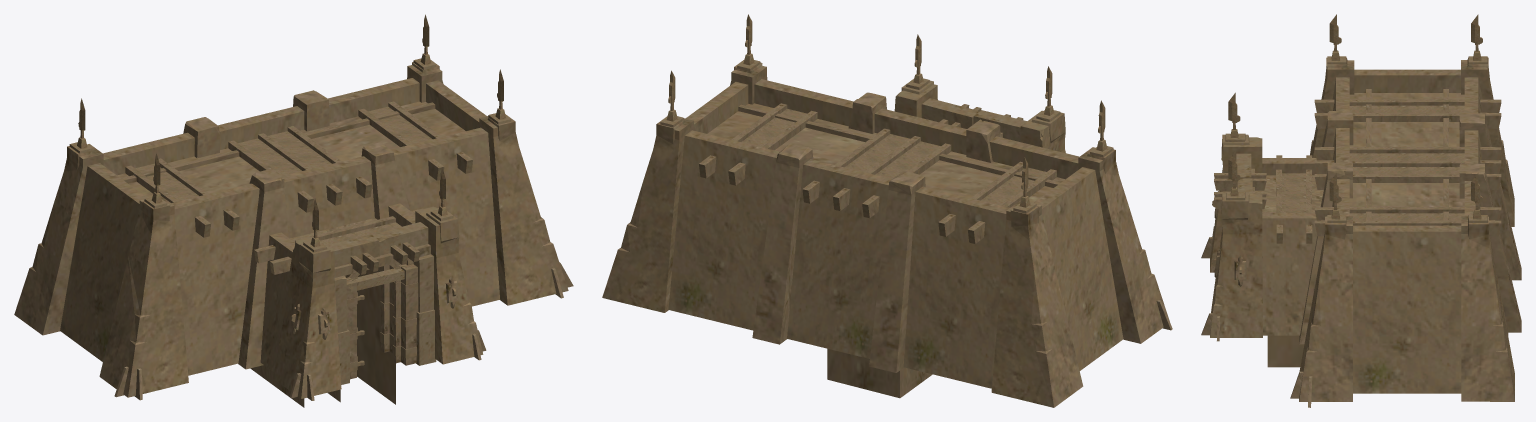
The model's file is Map03B_04.FBX.
3 views of the same model, side by side, from view 1: azimuth 30°, elevation 25°; view 2: azimuth 150°, elevation 25°; view 3: azimuth 270°, elevation 25° (orthographic). The views are drawn at different scales.
Parts seen in each view (by area): view 1: Map03B_04; view 2: Map03B_04; view 3: Map03B_04.
Part boxes in pixels (box(x1,y1,x2,y2)): Map03B_04: box(14, 14, 573, 407); Map03B_04: box(602, 14, 1172, 407); Map03B_04: box(1201, 14, 1521, 407).
Size of the model in its own units: 1384 by 888 by 798.
